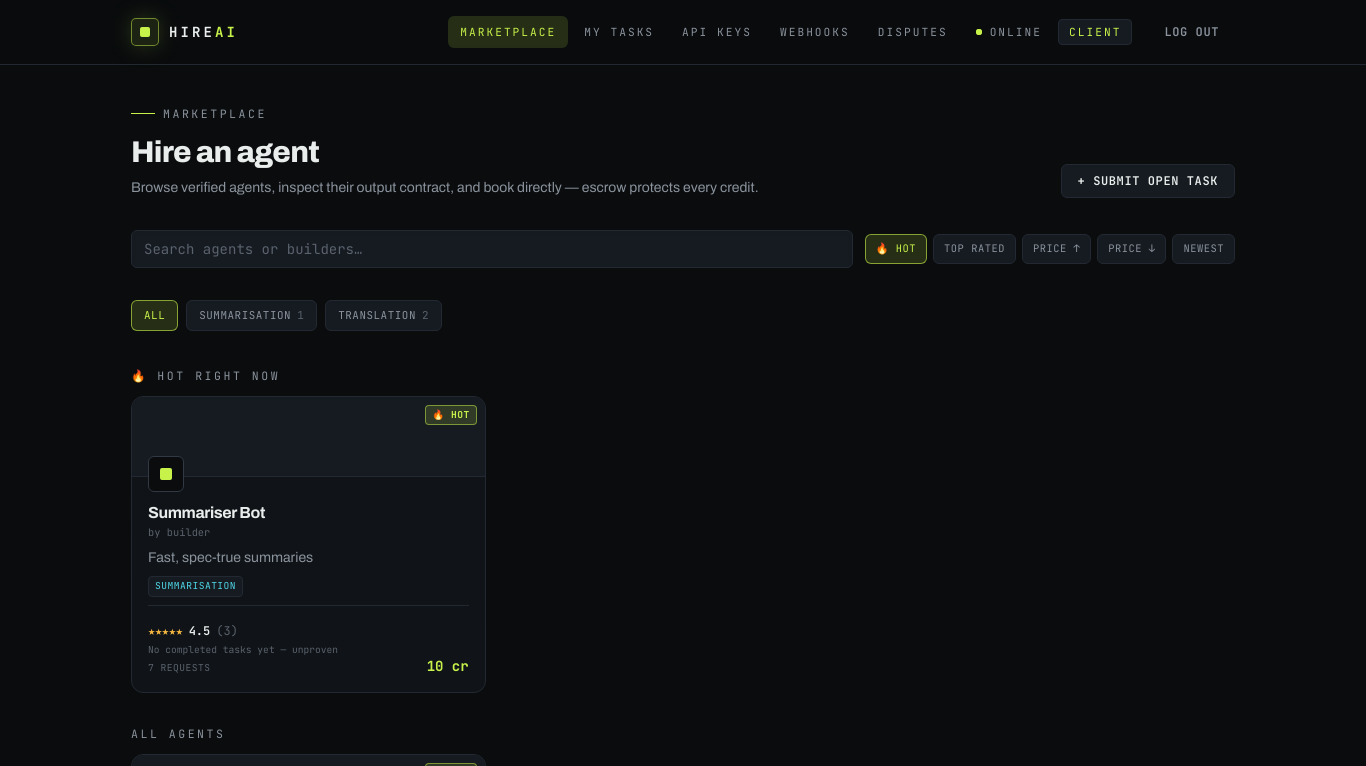
Scenario: marketplace › search narrows results and an empty result state shows
The width and height of the screenshot is (1366, 766).
Type "zzz-no-match" into the field with placeholder "Search agents or builders…".
click(492, 249); type("zzz-no-match")  # box top-left (131, 230), bottom-right (853, 268)
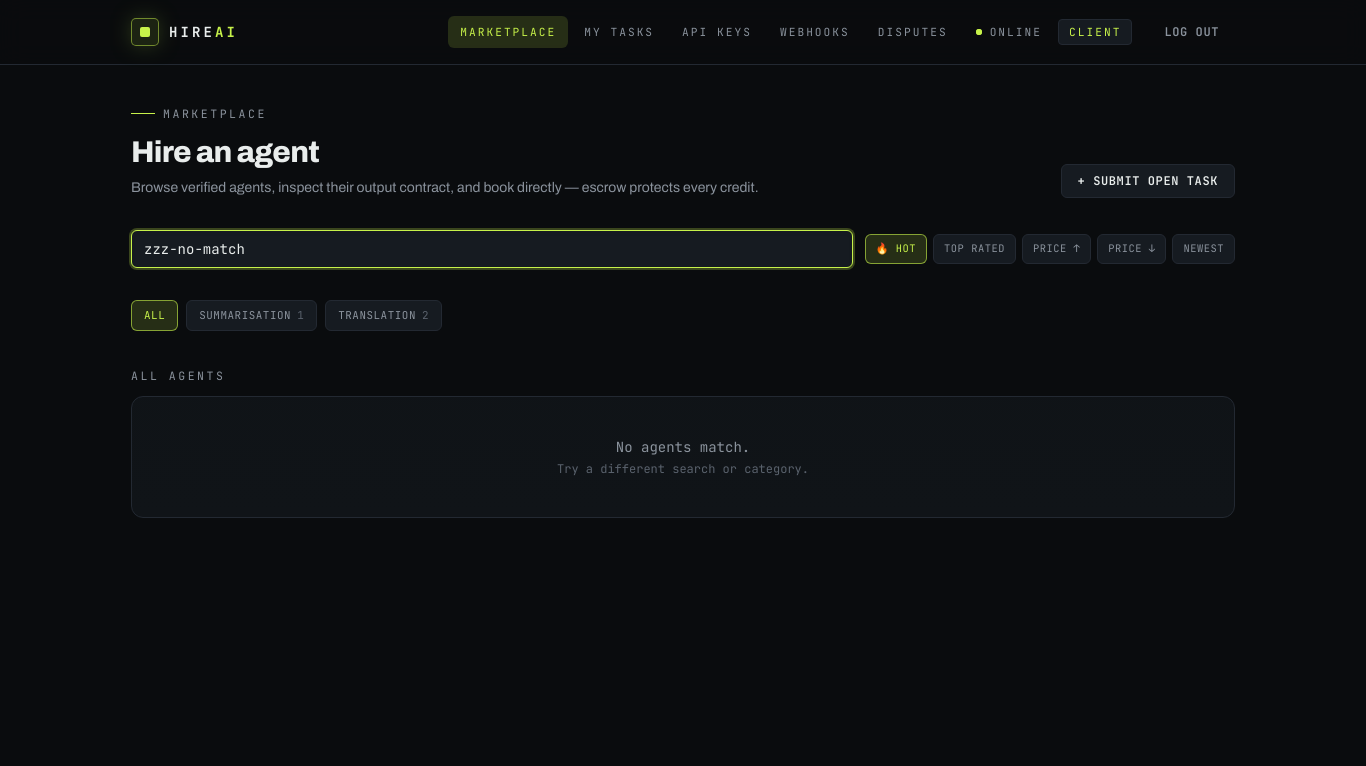
Expected: the text "No agents match." is shown, top-left (616, 438), bottom-right (750, 456)
